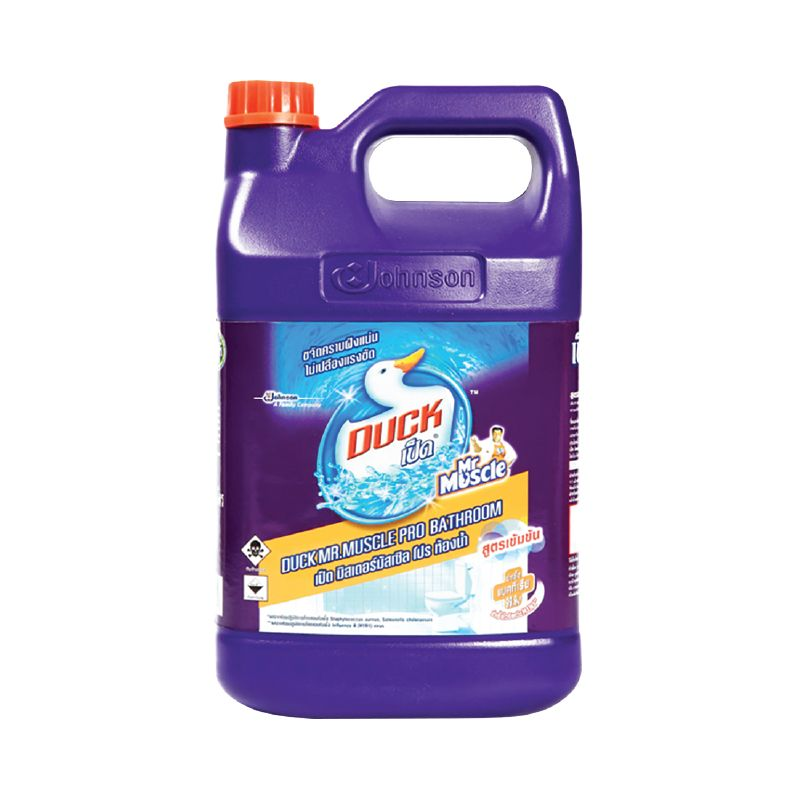Cleaning_solution: (209, 72, 591, 729)
